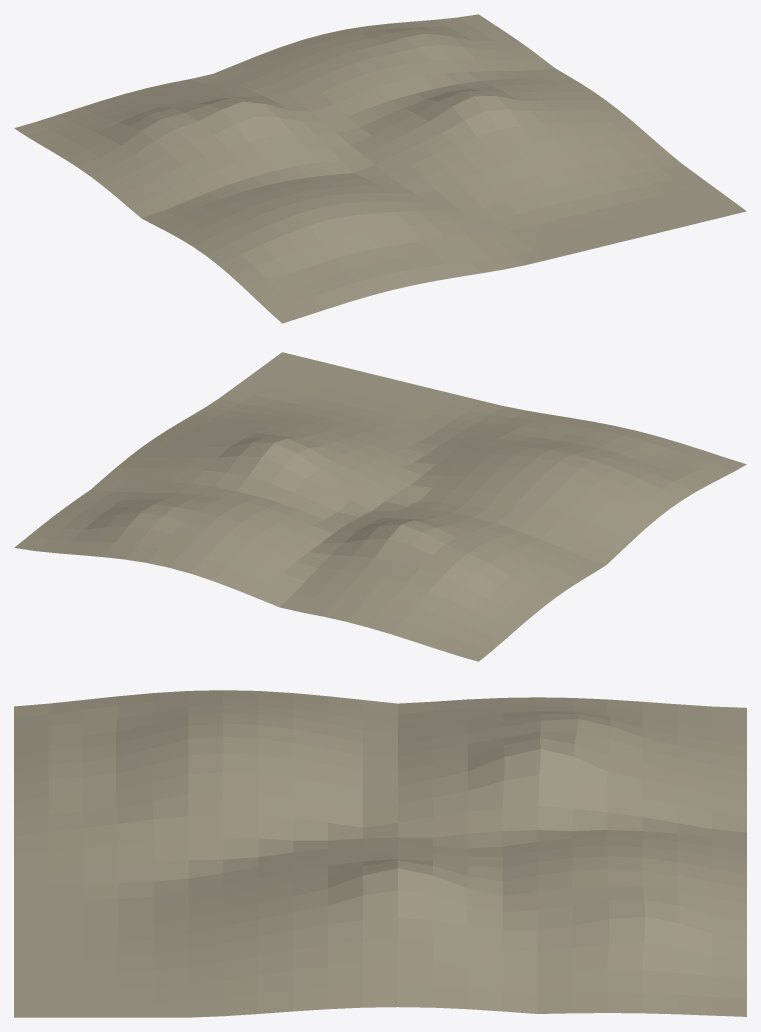
The model's file is Underwater.fbx.
3 views of the same model, one above another, from view 1: azimuth 30°, elevation 25°; view 2: azimuth 150°, elevation 25°; view 3: azimuth 270°, elevation 25° (orthographic). The views are drawn at different scales.
Parts seen in each view (by area): view 1: Plane; view 2: Plane; view 3: Plane.
Part boxes in pixels (x1,y1,x2,y2): Plane: (14, 14, 746, 323); Plane: (14, 352, 746, 661); Plane: (14, 690, 746, 1017).
Bounding box in the file's own units: 1000 × 91.91 × 1000.
